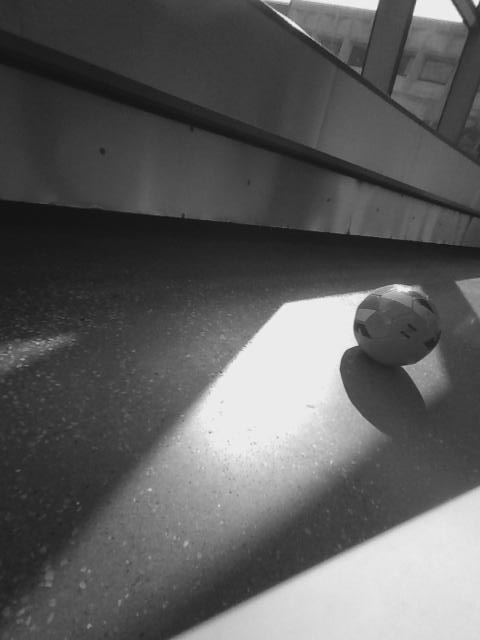ball: (351, 280, 442, 369)
